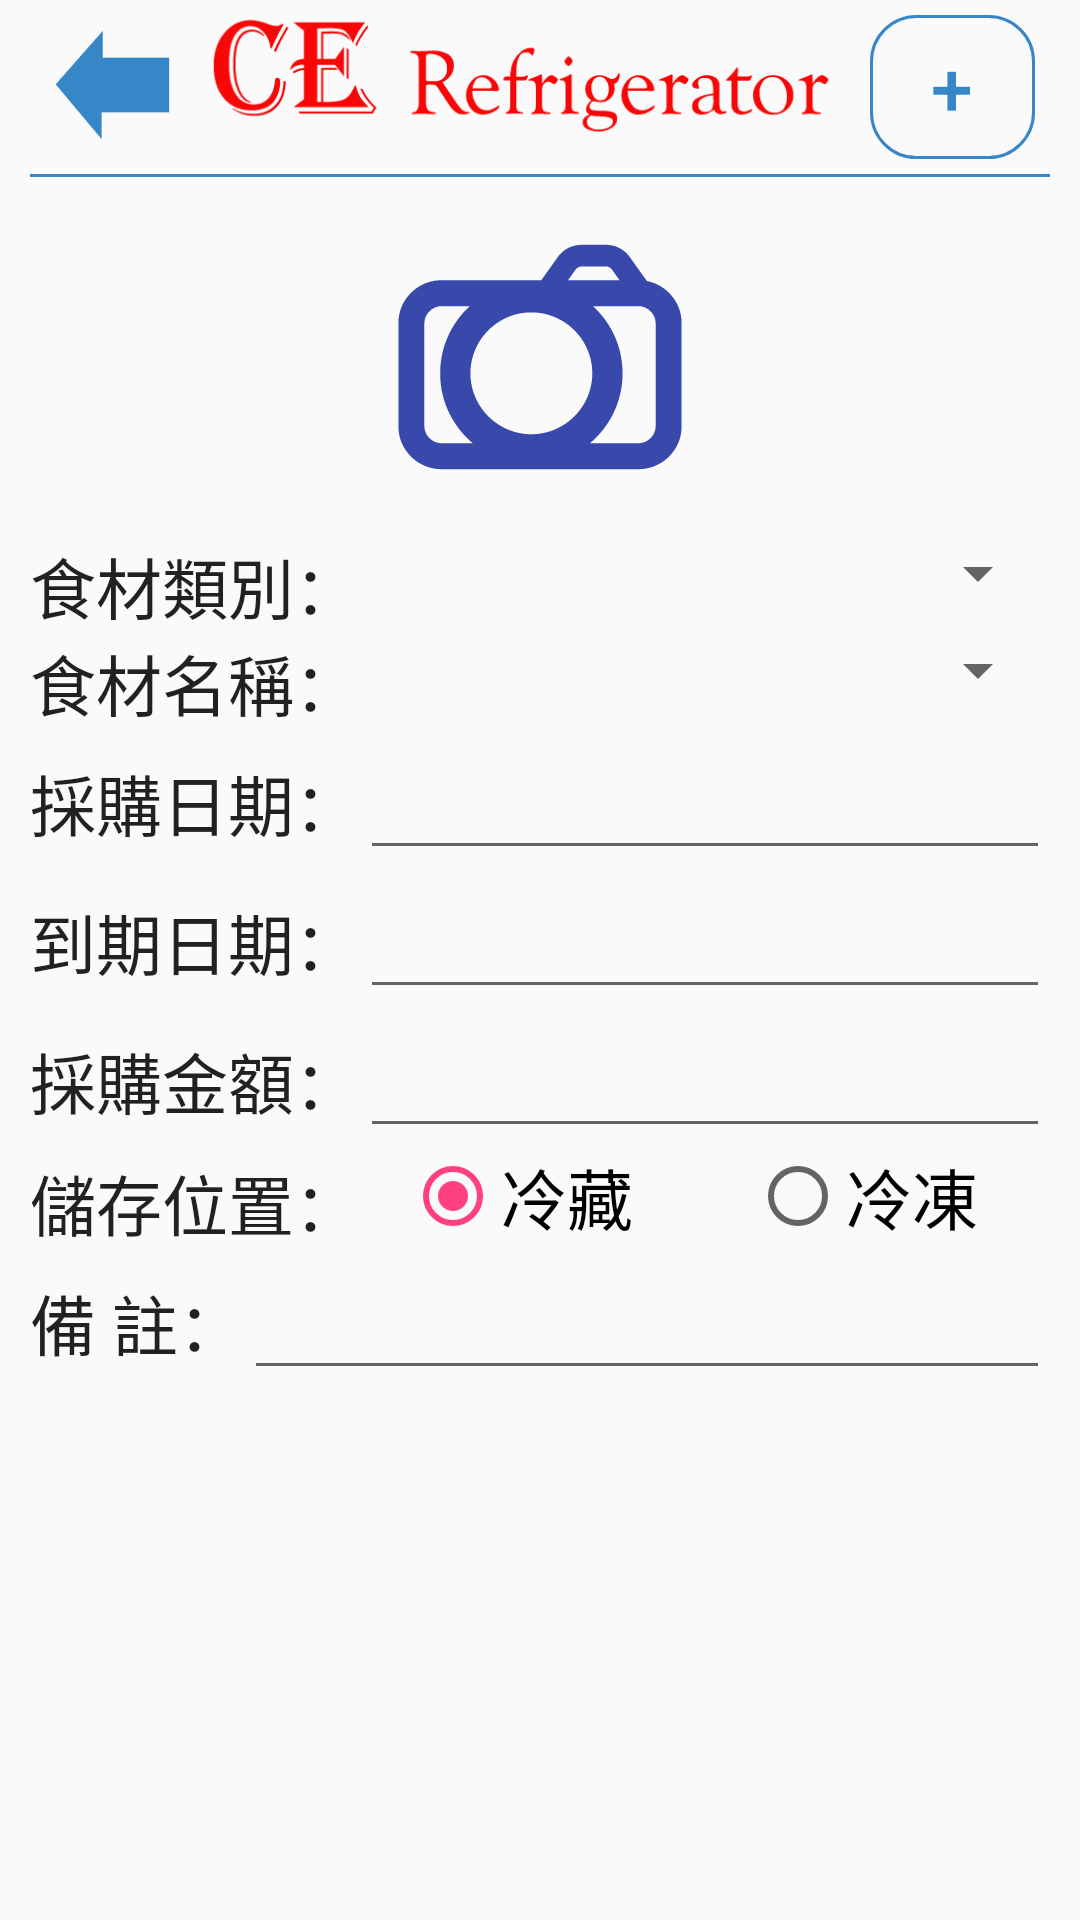

Named icons in this screenshot (1080px x 1920px) and their centers, [x,y]:
back: [112,85]
camera: [540,357]
